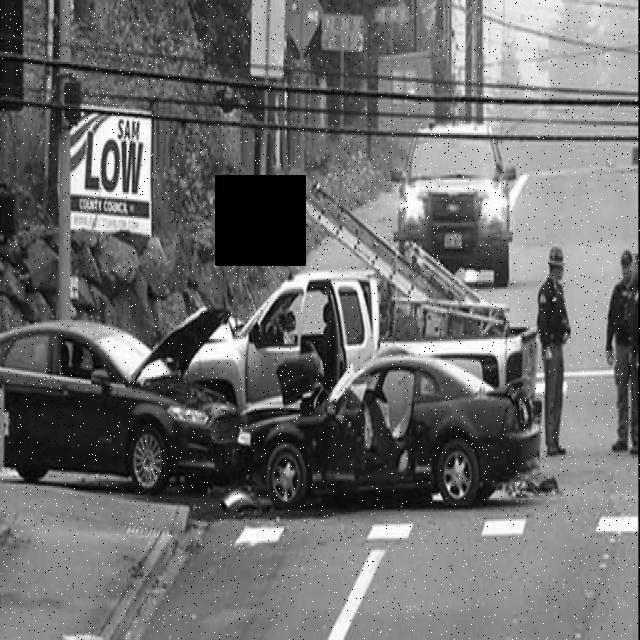accident: (0, 292, 542, 512)
vehicle: (396, 116, 516, 286)
